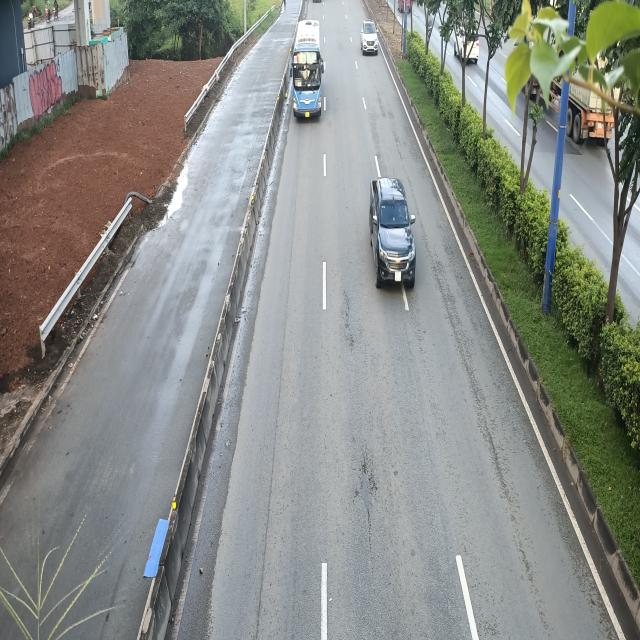car: (371, 177, 418, 286), (359, 20, 378, 55)
coach: (288, 17, 324, 117)
